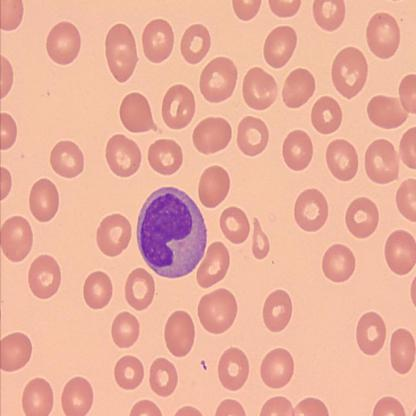Monocyte: (135, 185, 208, 280)
